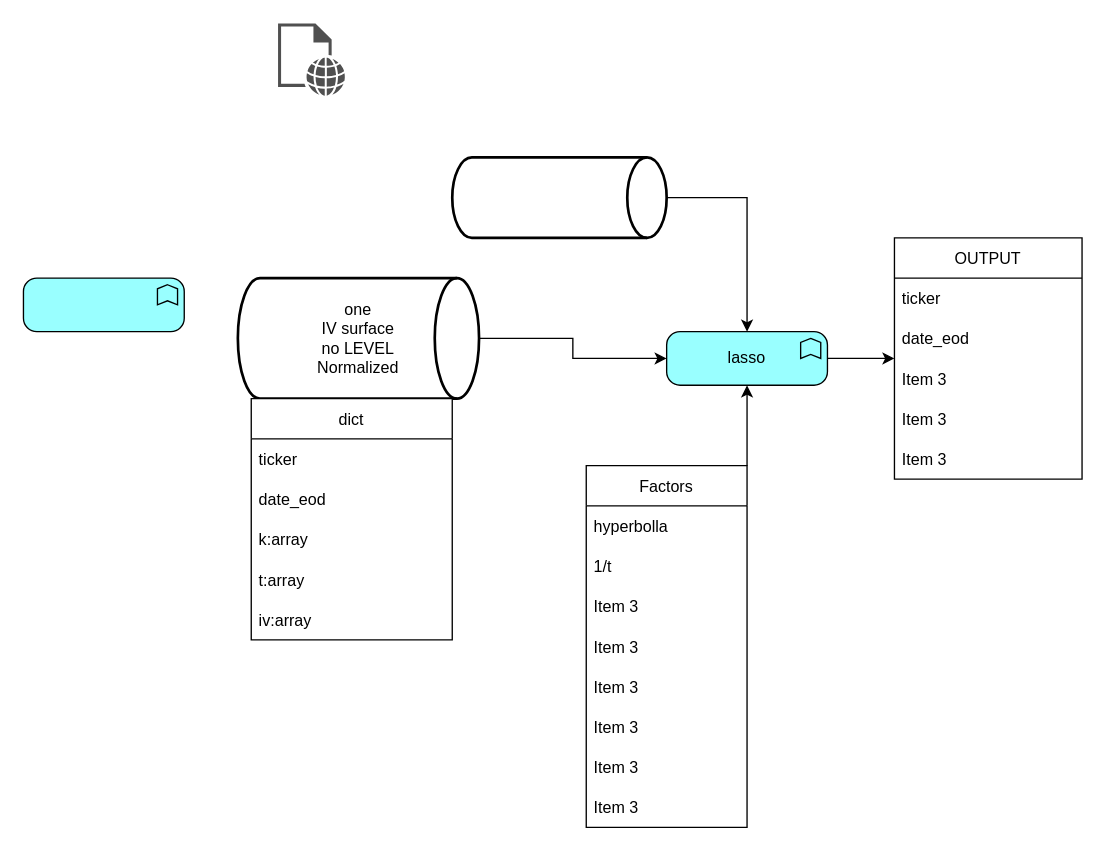
The diagram is 1106 pixels wide and 851 high, and some of its shapes have lost their labels. Here are the shapes that lost their labels. From the top down, the centre of each, then its label:
At [310,59]: "https://docs.rapids.ai/api/cuml/stable/api.html#cuml.Lasso".
At [558,197]: "hyperpameters".
At [103,304]: "normalize data".
